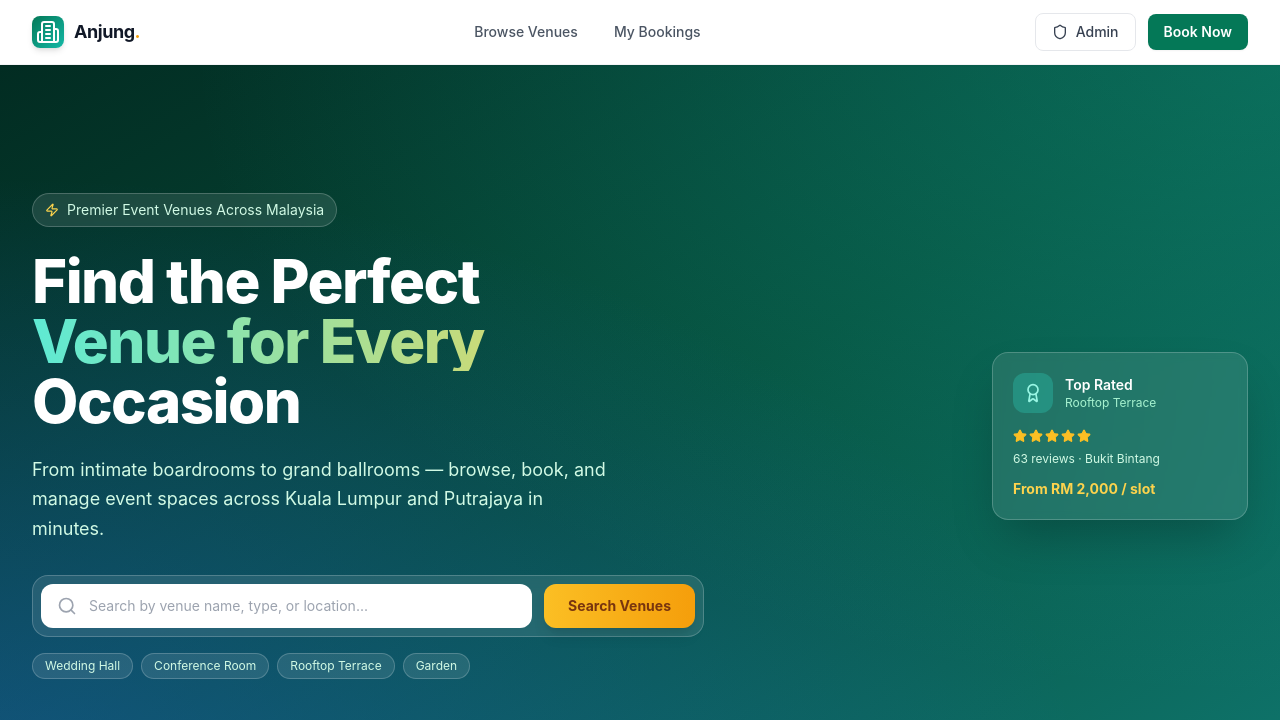
App — admin authentication › shows error on wrong credentials
The width and height of the screenshot is (1280, 720).
Click the button "Admin": (1085, 32) [1035,13,1136,51]
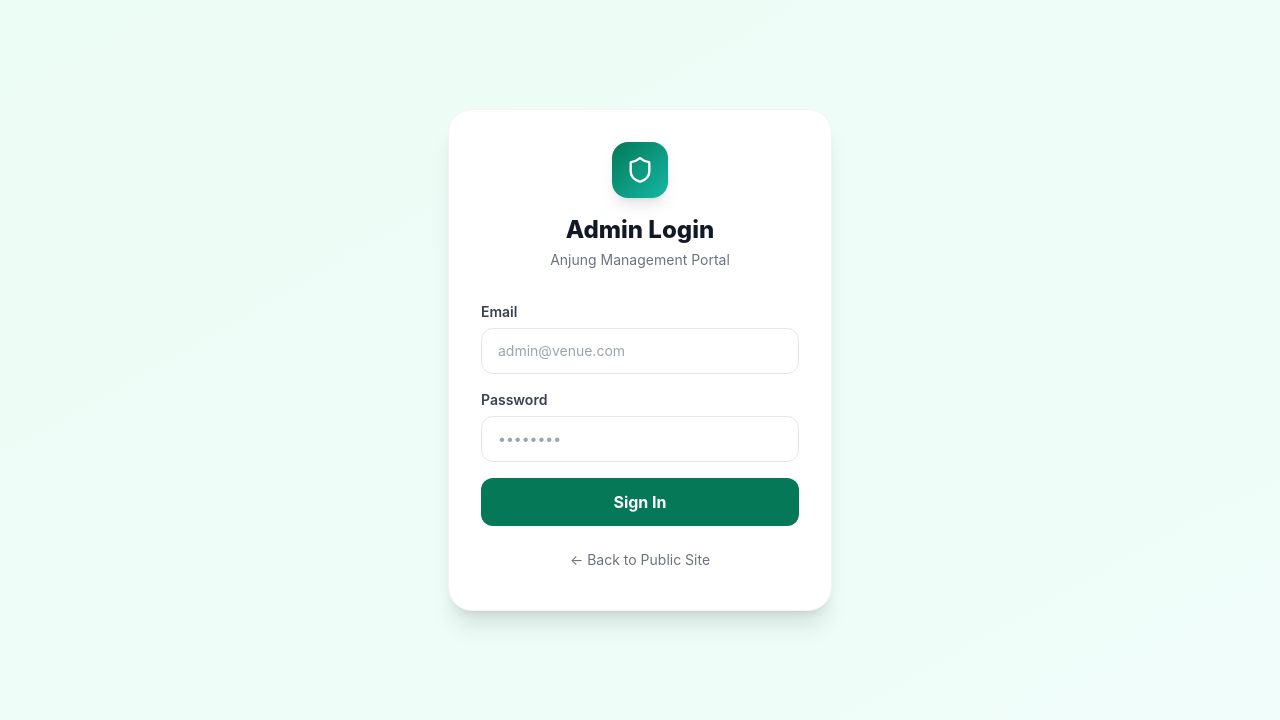
In the field with placeholder "admin@venue.com": (640, 351) [481,328,799,374], type "wrong@email.com"
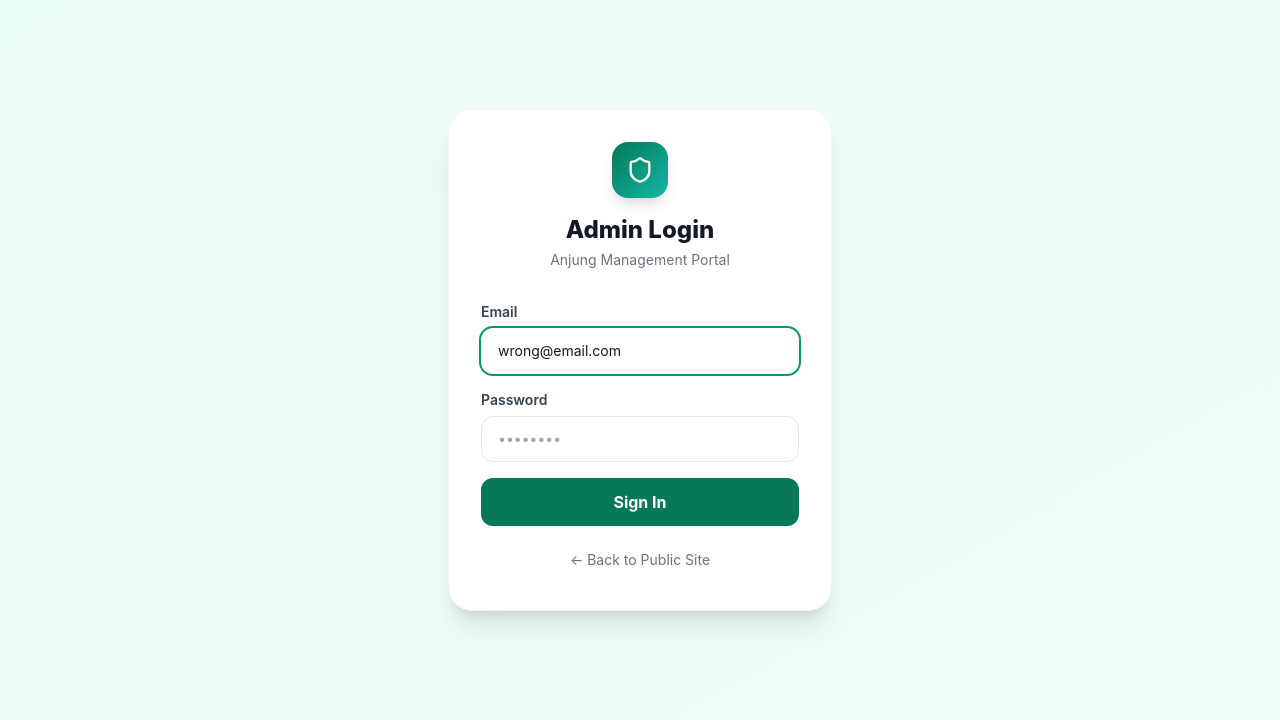
In the password field with placeholder "••••••••": (640, 439) [481,416,799,462], type "wrongpass"
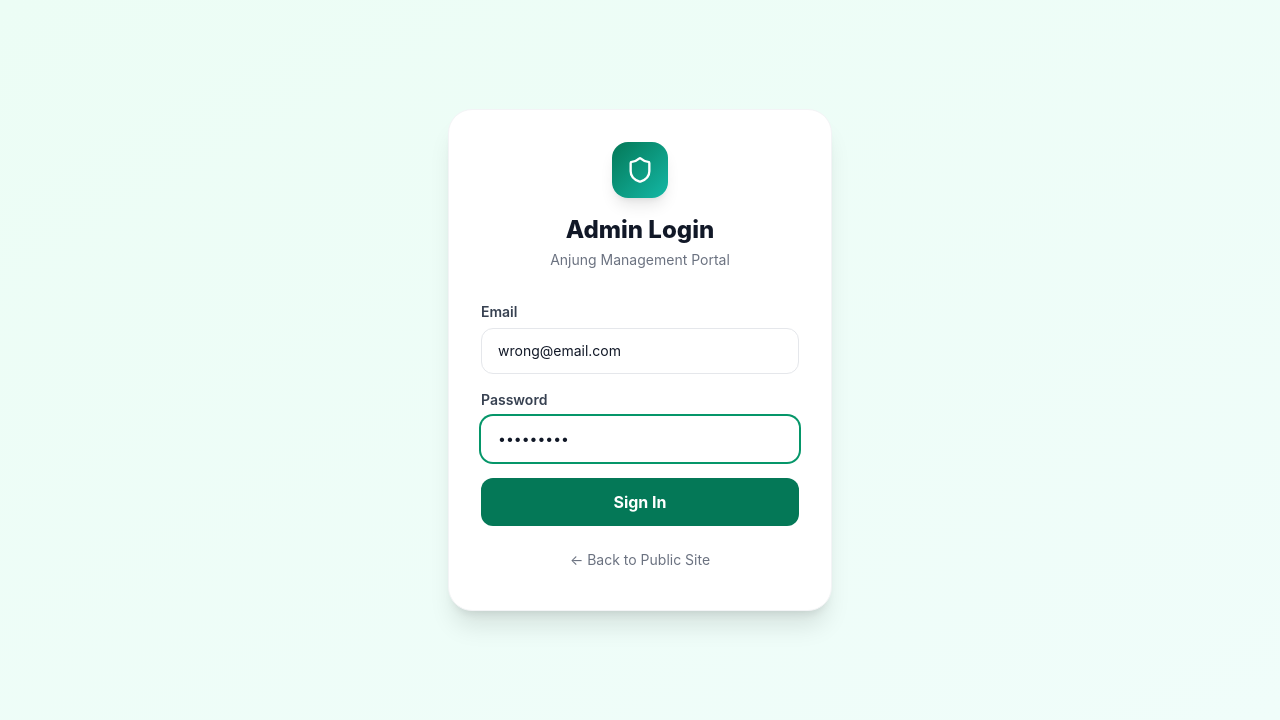
Click the button "Sign In": (640, 502) [481,478,799,526]
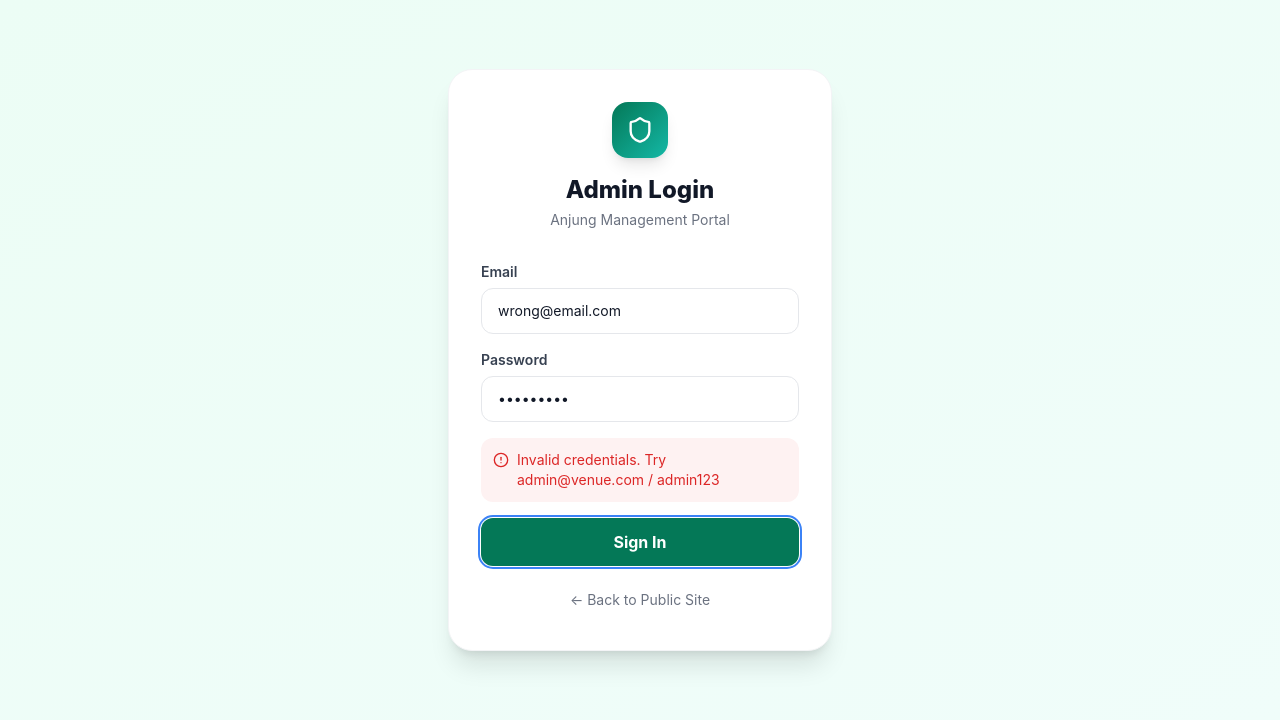
Expected: the text "Invalid credentials. Try admin@venue.com / admin123" is shown, [481,438,799,502]
